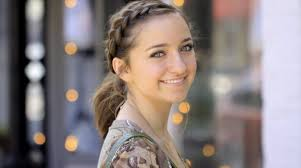person: (106, 2, 197, 103)
